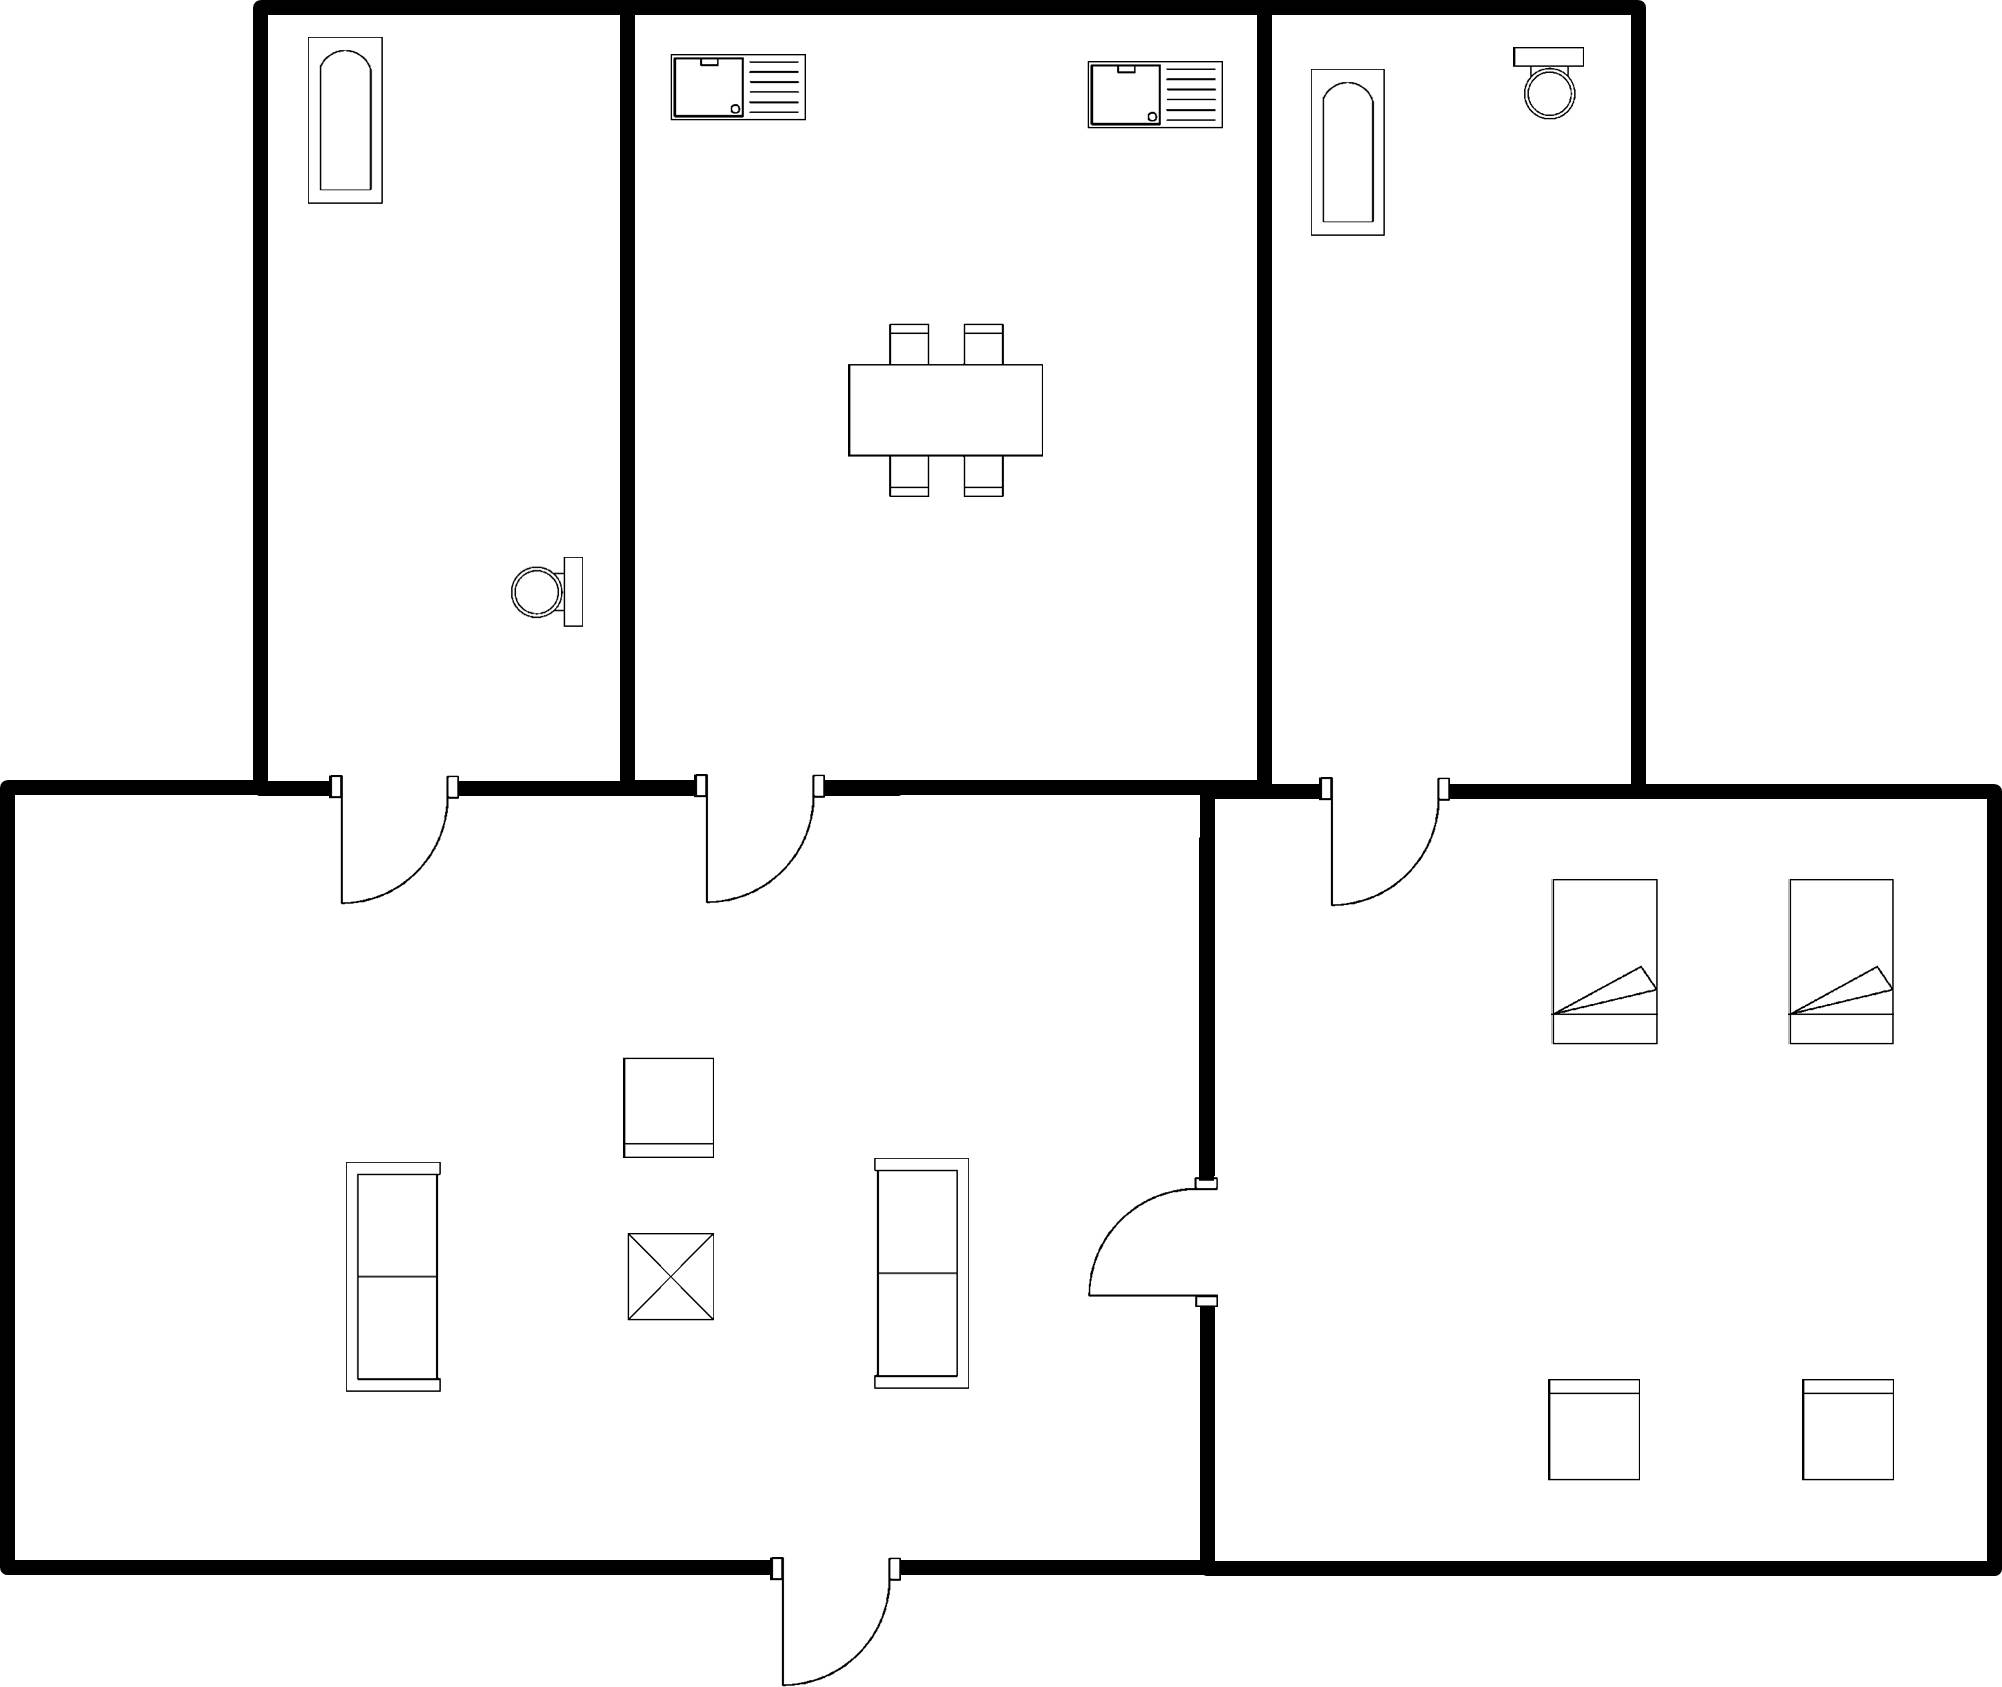bed: (1778, 869, 1908, 1063), (1539, 866, 1668, 1059)
coffee_table: (617, 1225, 724, 1335)
dining_table: (827, 308, 1052, 515)
large_sink: (499, 543, 598, 643), (1496, 31, 1593, 131)
large_sofa: (855, 1141, 981, 1399), (331, 1146, 453, 1407)
sink: (1078, 48, 1232, 145), (660, 43, 816, 138)
small_sofa: (1790, 1367, 1906, 1494), (614, 1048, 729, 1171), (1537, 1369, 1650, 1495)
tub: (1298, 53, 1403, 258), (299, 28, 393, 222)
